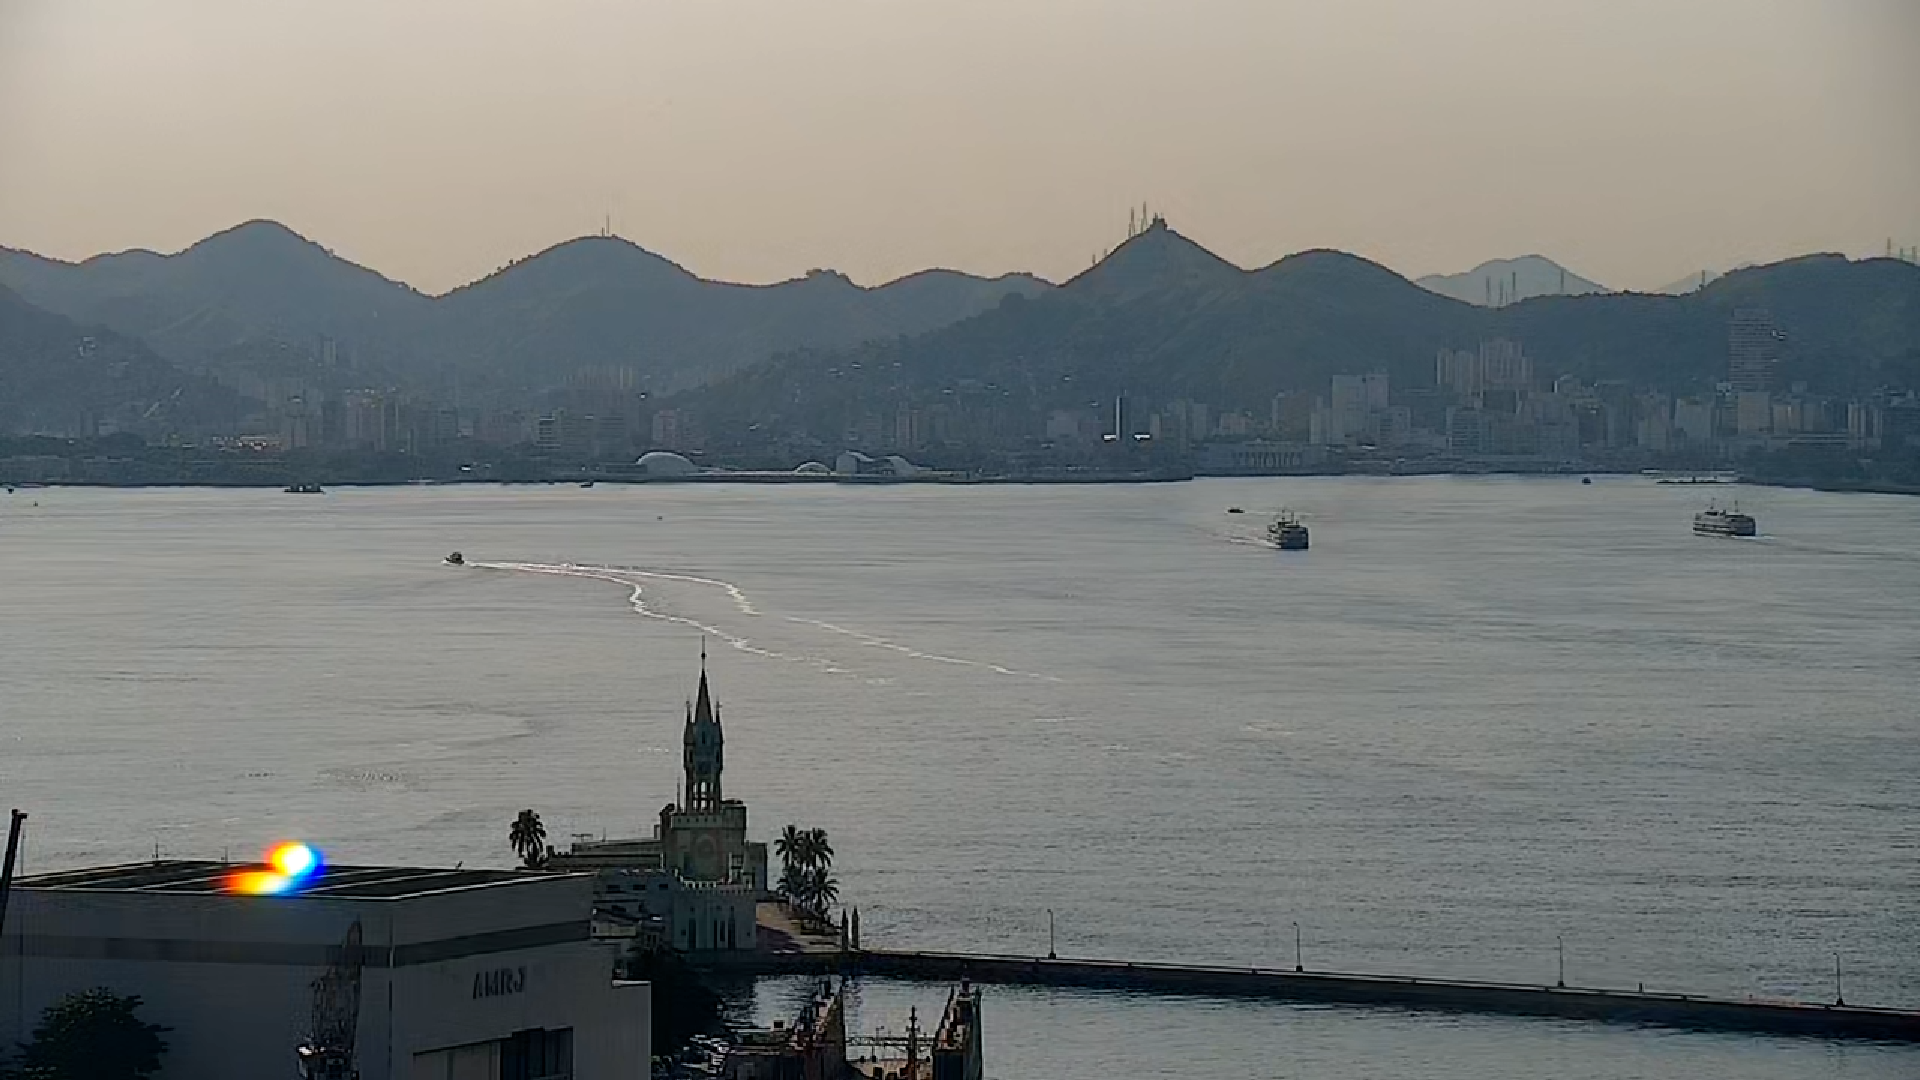Ship1: (1687, 498, 1762, 539), (1267, 508, 1312, 553)
Ship6: (440, 547, 469, 564)
